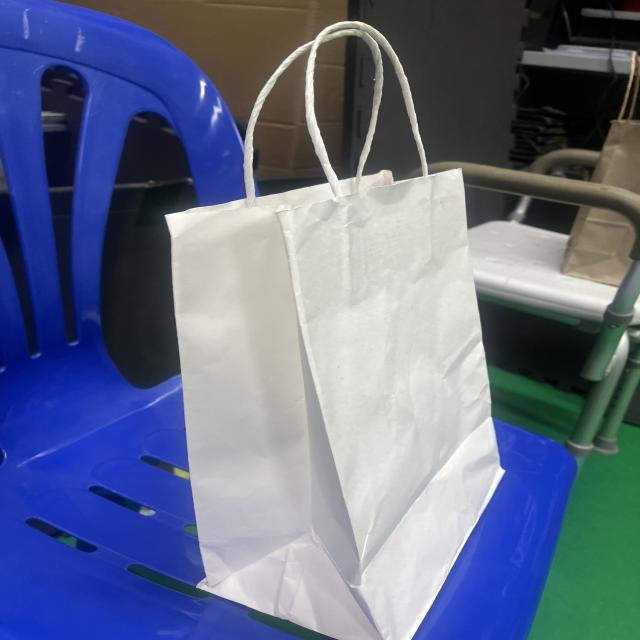paper bag: (135, 12, 533, 640)
